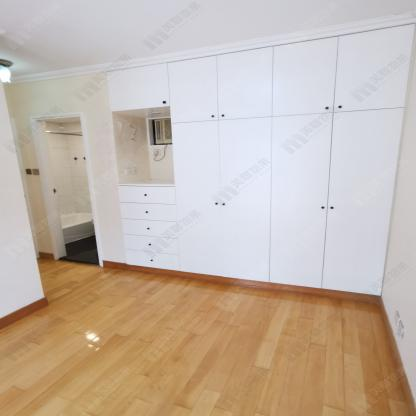Closet: (107, 23, 416, 304)
